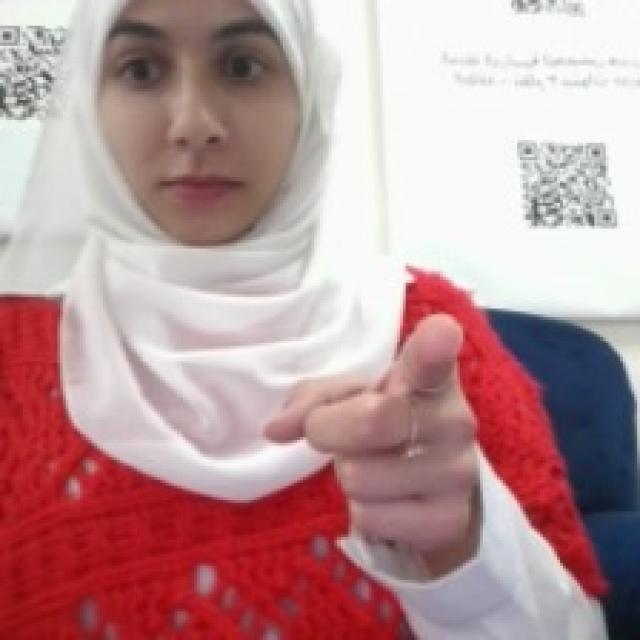you: (256, 305, 486, 551)
